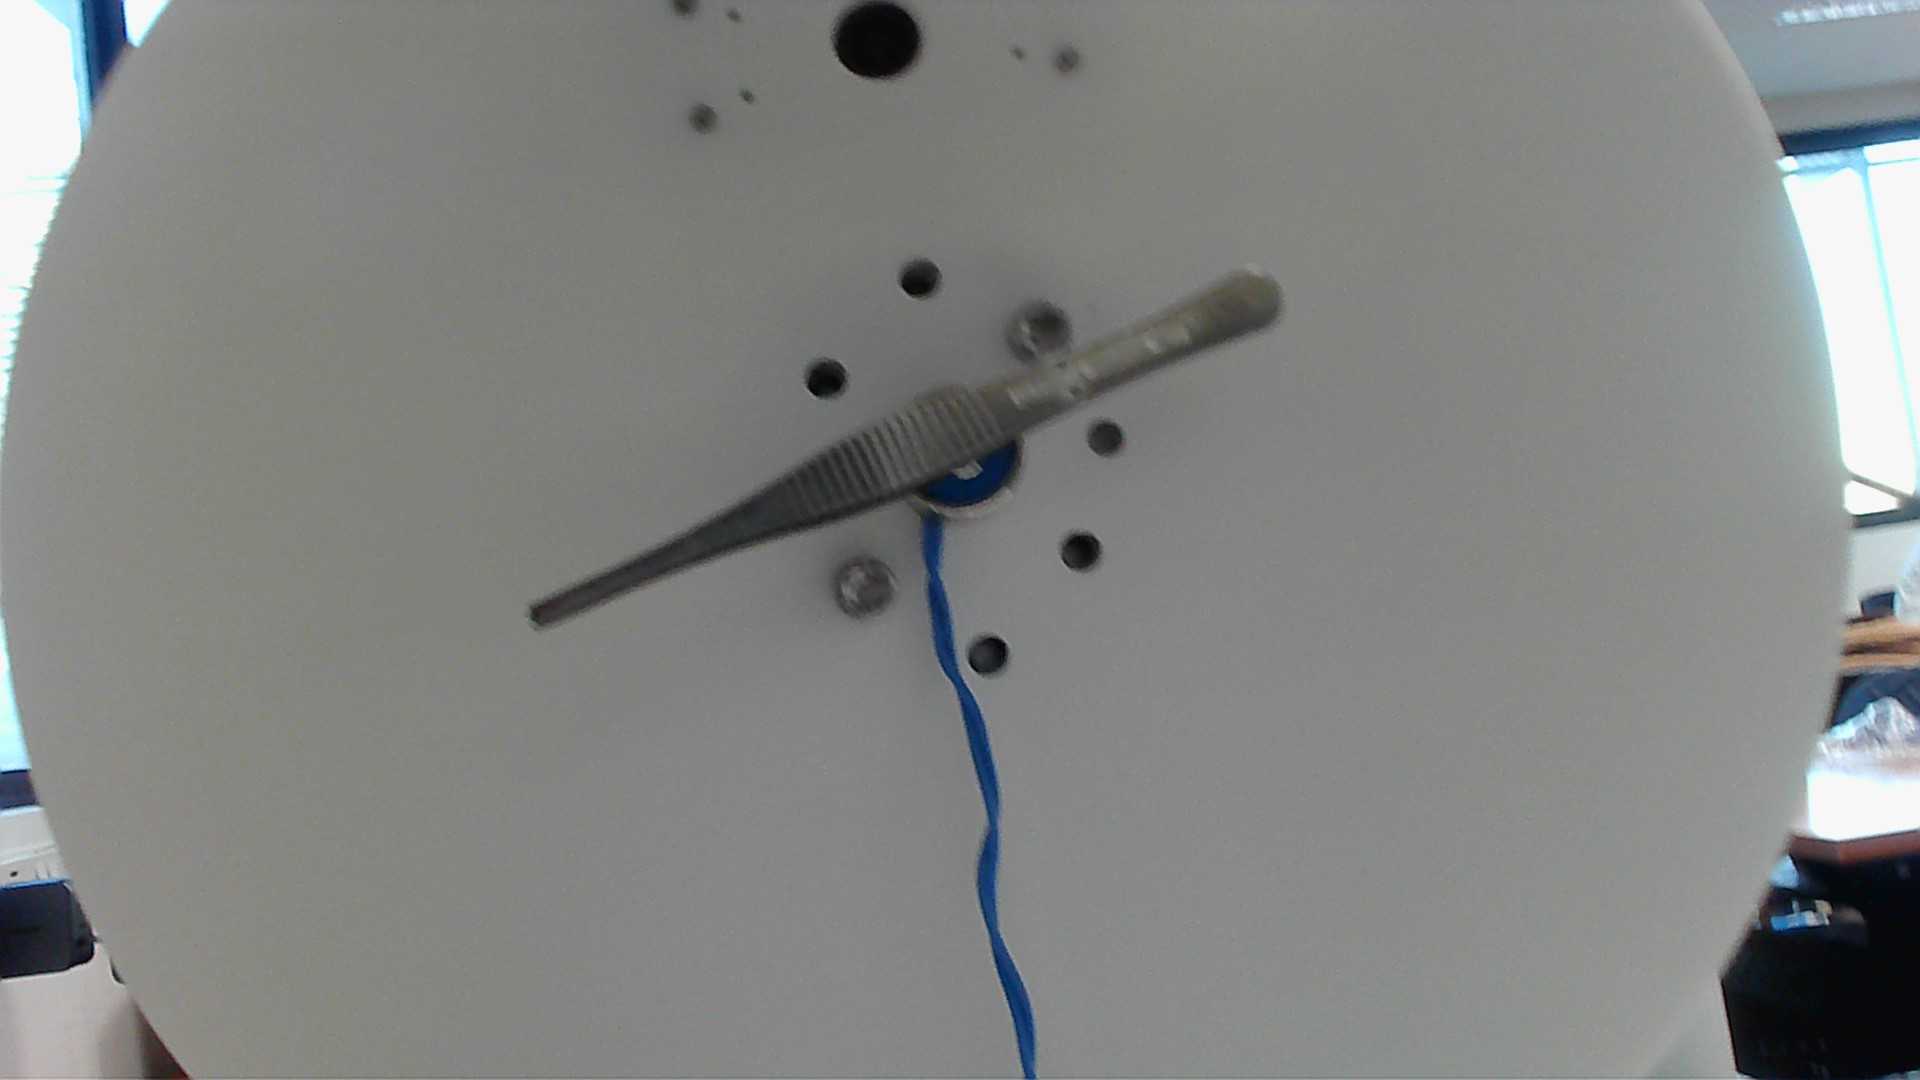Scratches: (1006, 315, 1205, 410)
